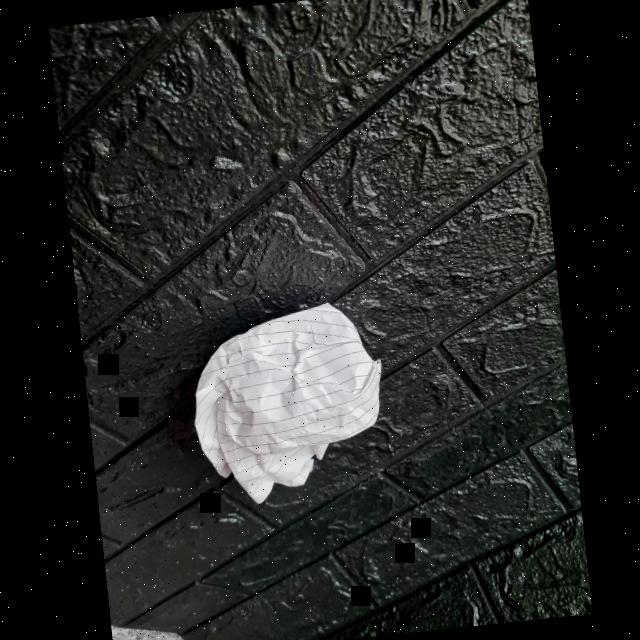scrap_paper: (174, 296, 392, 508)
